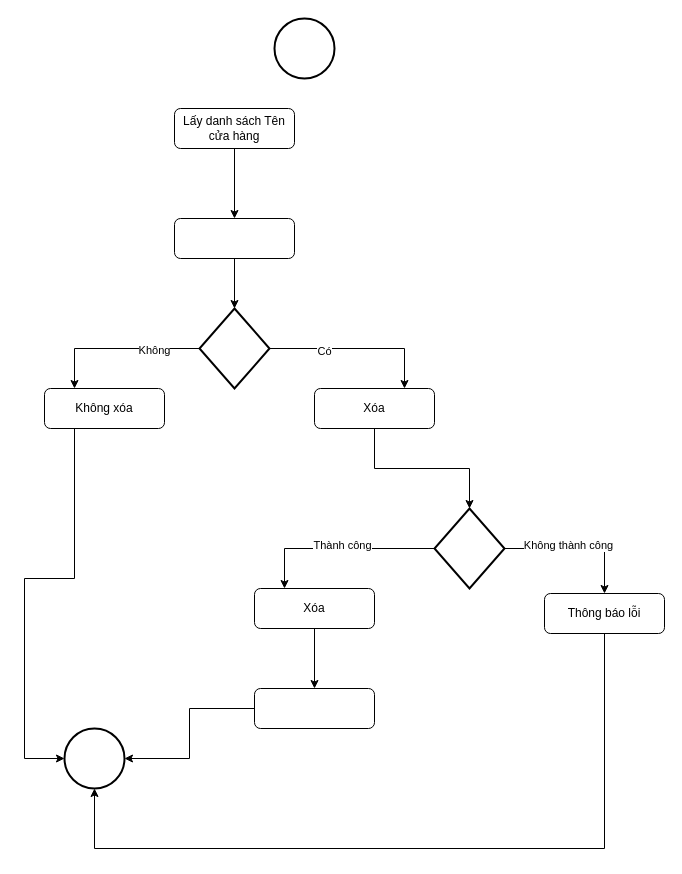
This 682x874 diagram has some shape labels left out. The shapes that lost their labels are listed below. From the top down, each one's box as (x1, y1, x2, y2) in pixels, then its label:
(174, 218, 294, 258): Xóa Tên cửa hàng
(198, 307, 270, 389): Xác nhận xóa
(254, 688, 374, 728): Lấy lại dữ liệu mới
